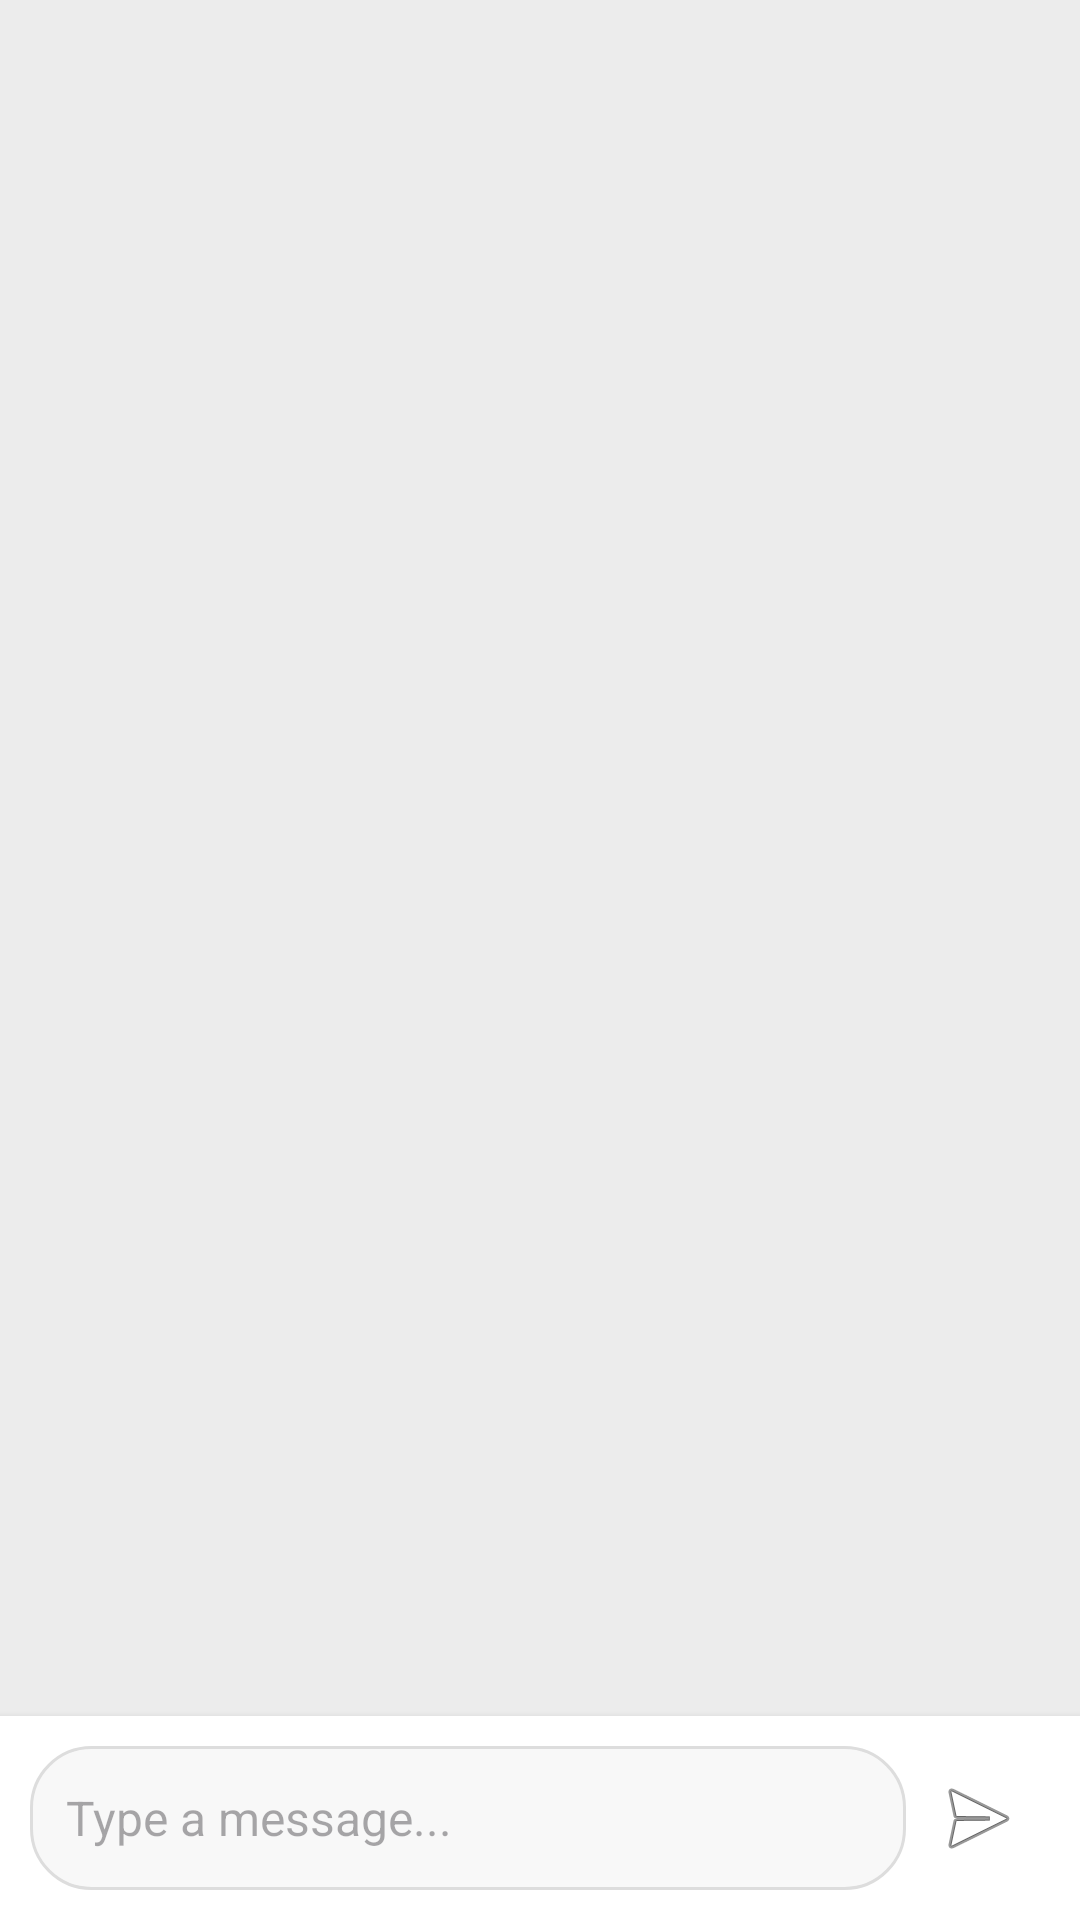

Screen size 1080px×1920px. Icon name, then its box in pixels as (x1, y1, x2, y2):
Send: (948, 1788, 1010, 1849)
